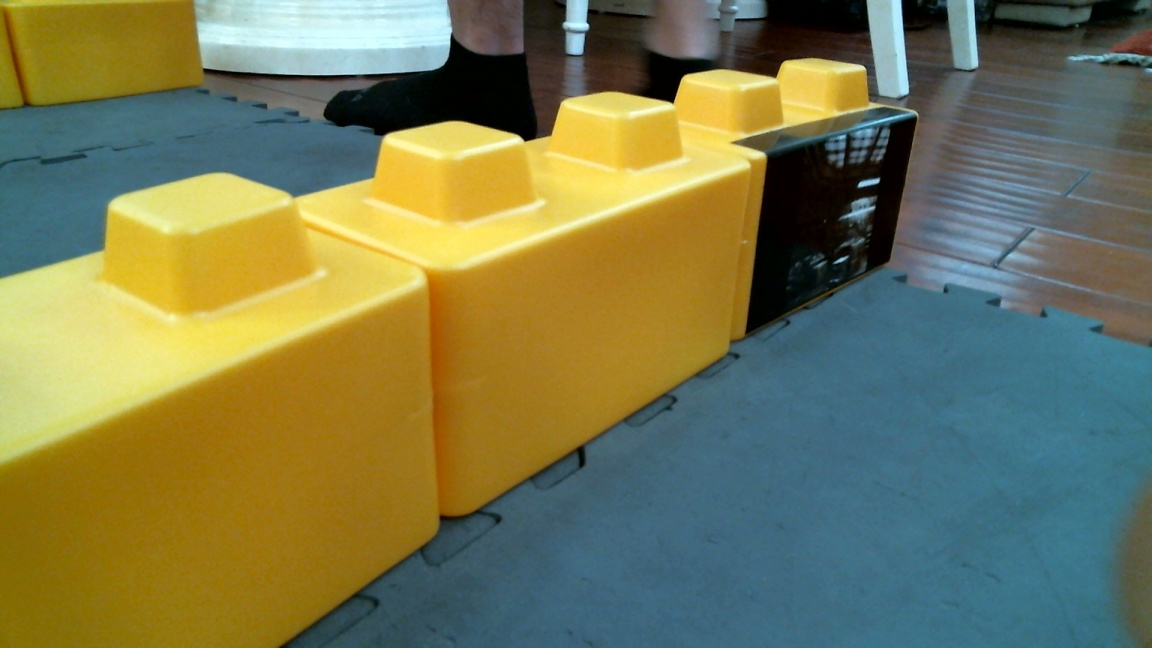skystone: (709, 41, 898, 351)
stone: (1, 176, 441, 543), (358, 119, 741, 463)
